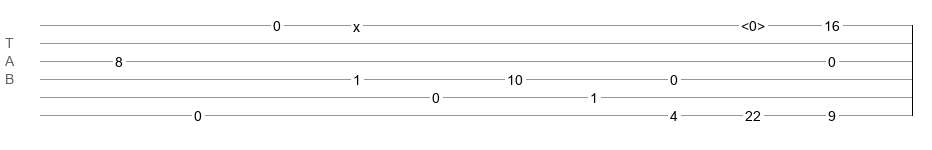0: (194, 108, 202, 118), (273, 18, 281, 28), (432, 90, 440, 100), (670, 72, 678, 82), (828, 54, 836, 64)
1: (353, 72, 361, 82), (590, 90, 598, 100)
10: (507, 72, 523, 82)
16: (824, 18, 840, 28)
22: (745, 108, 761, 118)
4: (670, 108, 678, 118)
8: (115, 54, 123, 64)
9: (828, 108, 836, 118)
harmonic: (741, 18, 765, 28)
x: (353, 19, 360, 27)
